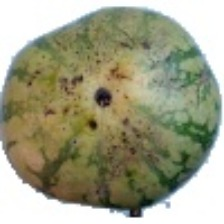watermelon: (48, 34, 196, 208)
